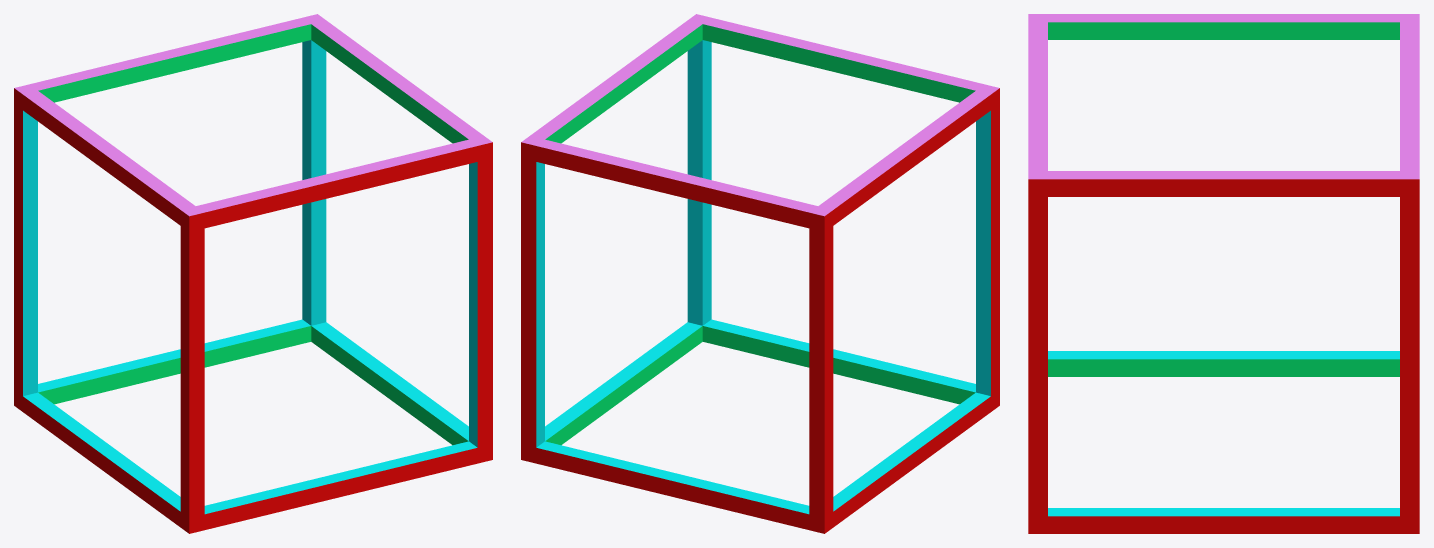
The model's file is TheCube.dae.
3 renders of one model, left to right at view 1: azimuth 30°, elevation 25°; view 2: azimuth 150°, elevation 25°; view 3: azimuth 270°, elevation 25°, orthographic. The views are drawn at different scales.
Parts seen in each view (by area): view 1: Cube; view 2: Cube; view 3: Cube.
Boxes of the visible parts, x1=… form: Cube: x1=14, y1=14, x2=492, y2=533; Cube: x1=521, y1=14, x2=999, y2=533; Cube: x1=1028, y1=14, x2=1419, y2=533.
Bounding box in the file's own units: 80 × 80 × 80.
